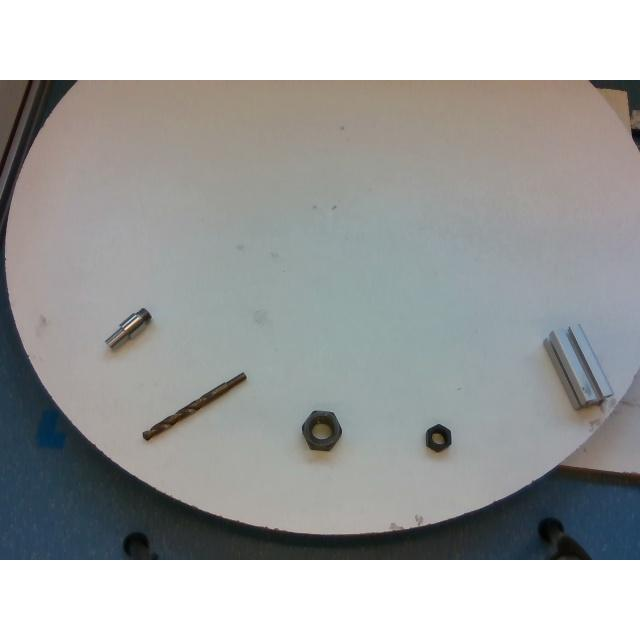Axis2: (104, 307, 150, 348)
Drill: (142, 372, 246, 440)
M20: (425, 424, 451, 452)
M30: (303, 410, 342, 450)
S40_40_G: (544, 324, 612, 408)
